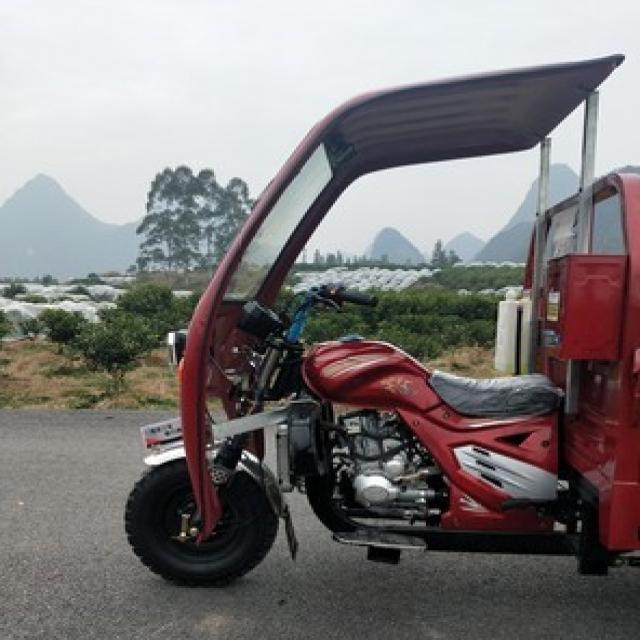tricycle: (117, 48, 638, 588)
